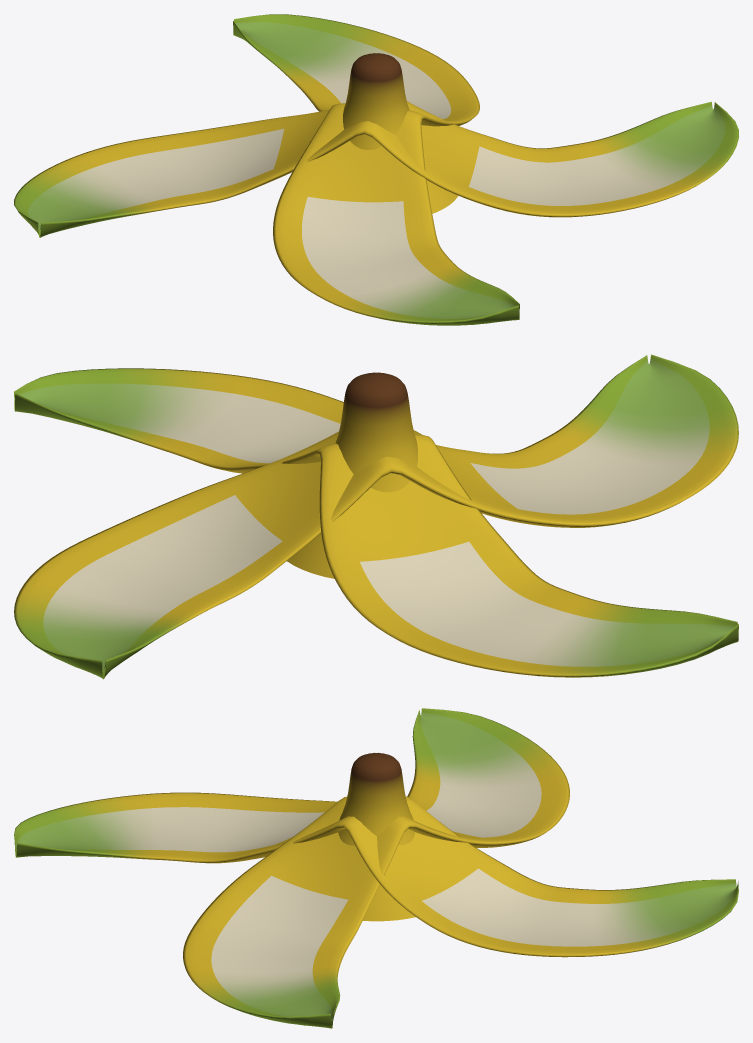
Rendered from banana_boomerang.glb.
3 renders of one model, top to bottom at view 1: azimuth 30°, elevation 25°; view 2: azimuth 150°, elevation 25°; view 3: azimuth 270°, elevation 25°, orthographic. The views are drawn at different scales.
Parts seen in each view (by area): view 1: BananaBoomerang; view 2: BananaBoomerang; view 3: BananaBoomerang.
Boxes of the visible parts, box(x1,y1,x2,y2) form: BananaBoomerang: box(14, 14, 738, 325); BananaBoomerang: box(14, 354, 738, 679); BananaBoomerang: box(14, 708, 738, 1028).
Bounding box in the file's own units: 0.5988 × 0.1235 × 0.5988.
